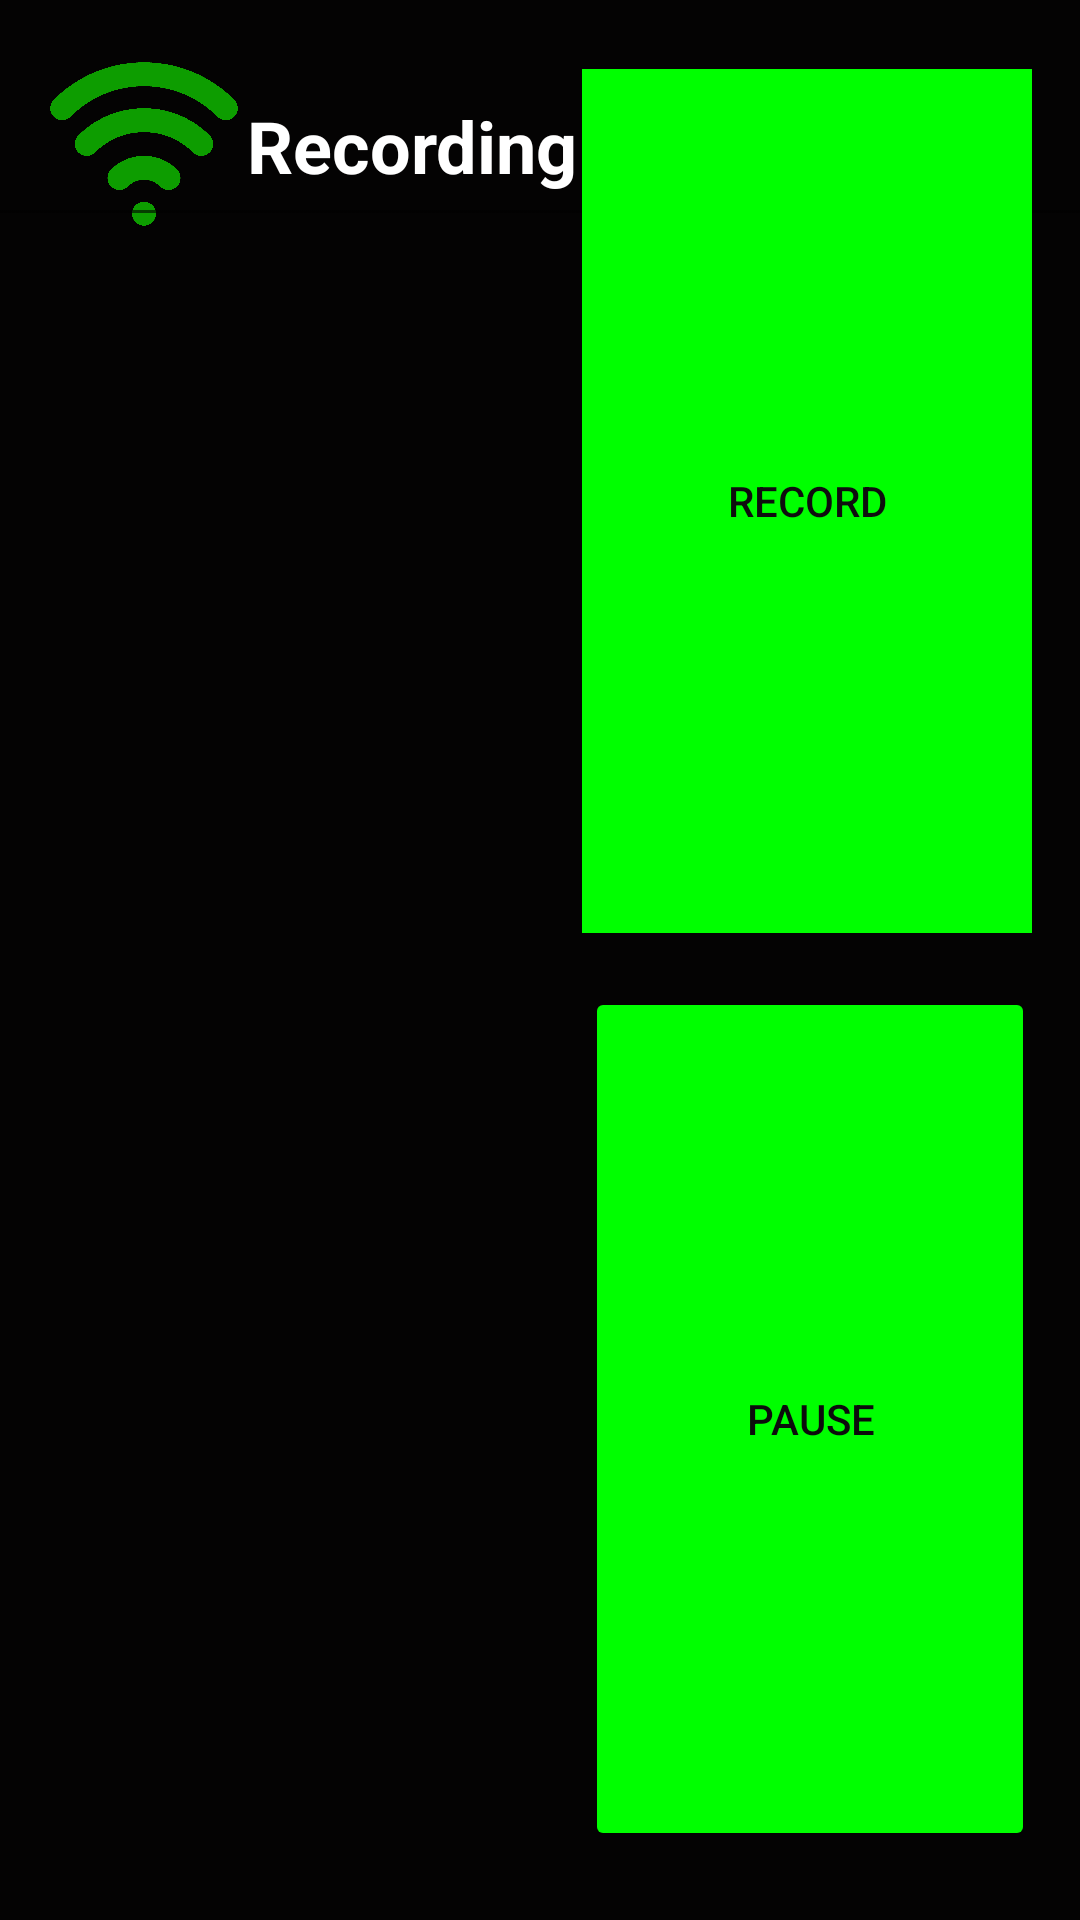

Icon bounding boxes for this 1080×1920 phone screenshot, format (x1,y1,x2,y2):
GPS Signal strength: (50,62,238,226)
